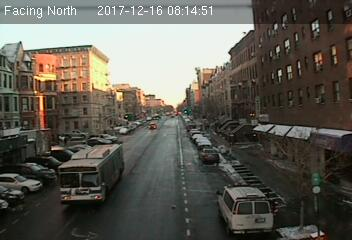bus: (56, 143, 124, 204)
car: (200, 147, 219, 162)
police: (216, 181, 276, 234)
